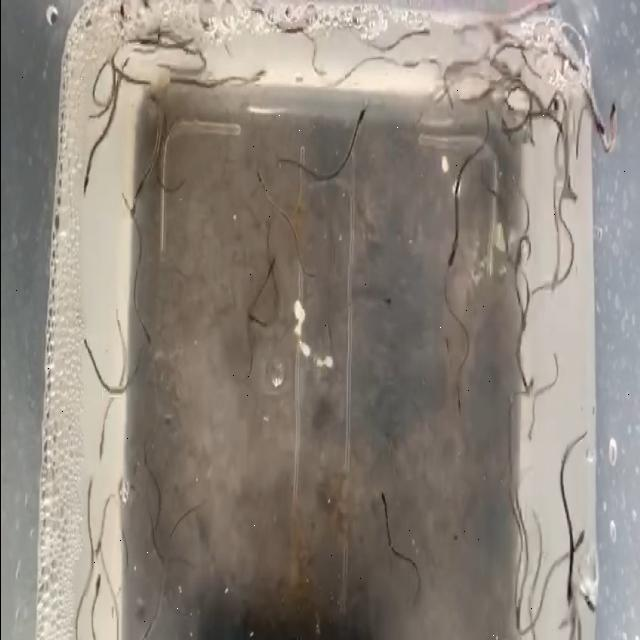inactive_glass_eel: (570, 506, 590, 553), (548, 251, 567, 299), (558, 48, 584, 80), (512, 358, 530, 401), (571, 583, 595, 615), (250, 167, 273, 198), (89, 529, 105, 573), (378, 490, 392, 539), (115, 0, 133, 37), (405, 20, 430, 46), (520, 369, 538, 405), (290, 12, 310, 43), (560, 574, 576, 612), (526, 0, 558, 19), (587, 108, 607, 138), (81, 476, 91, 536), (91, 560, 102, 614), (606, 96, 620, 138), (446, 229, 461, 267), (78, 162, 90, 208), (424, 49, 444, 76), (514, 584, 524, 634), (352, 103, 366, 137), (264, 250, 278, 284), (377, 286, 395, 312), (244, 69, 266, 90), (96, 420, 106, 462), (142, 314, 155, 346), (452, 380, 462, 416), (129, 194, 141, 222), (245, 313, 260, 333)
